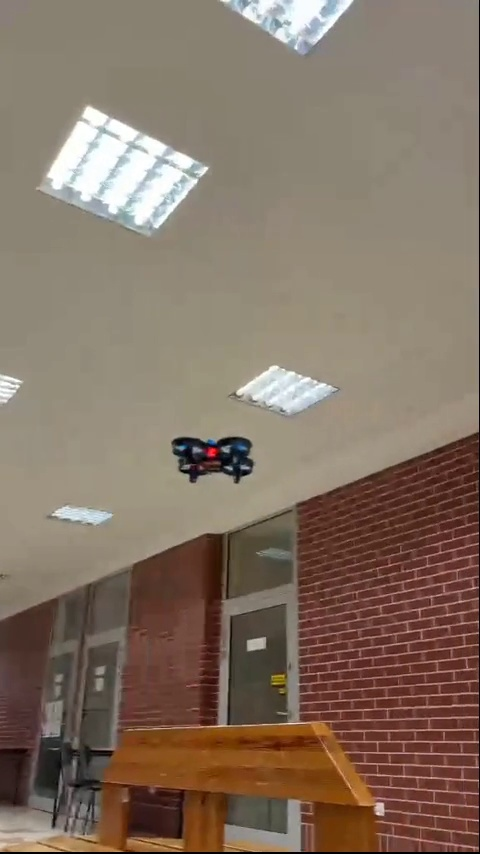drone: (171, 438, 258, 485)
